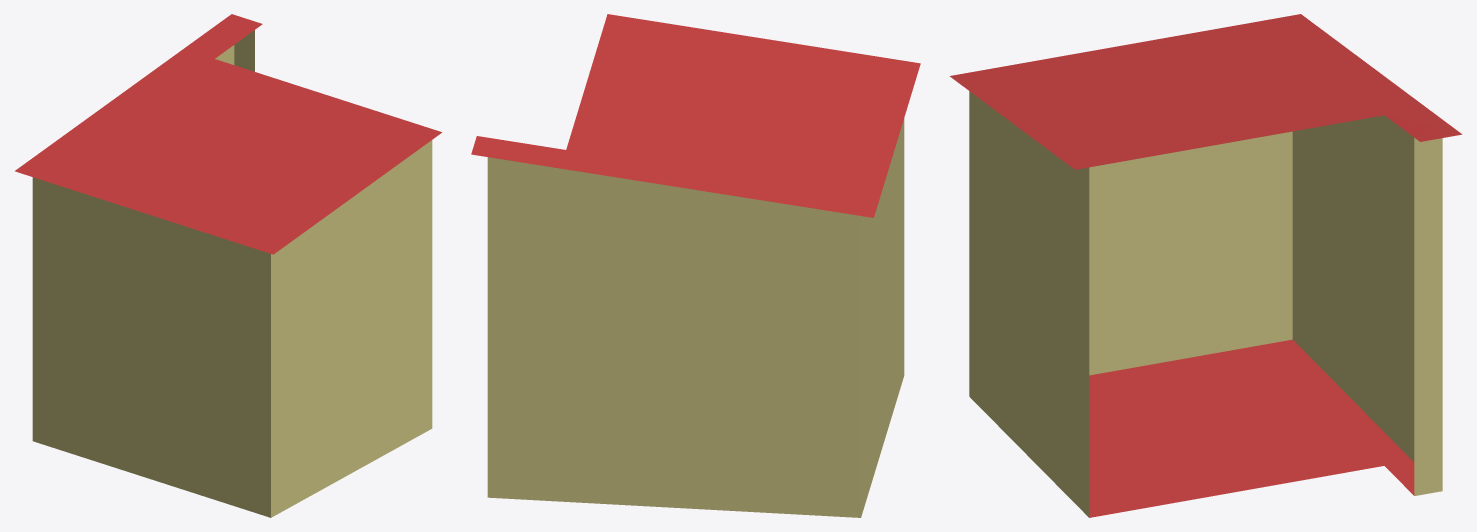
3 renders of one model, left to right at view 1: azimuth 30°, elevation 25°; view 2: azimuth 150°, elevation 25°; view 3: azimuth 270°, elevation 25°, orthographic. The views are drawn at different scales.
Bounding box in the file's own units: 7.32 × 8.38 × 6.49.
